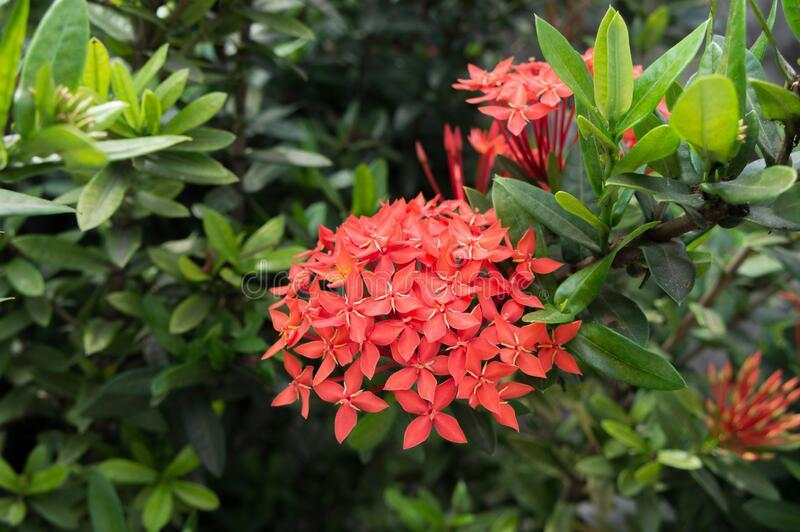ixora: (317, 363, 389, 445), (384, 332, 449, 403), (395, 382, 467, 446), (319, 274, 377, 343), (359, 265, 426, 315), (413, 291, 479, 340), (269, 351, 316, 419), (493, 319, 546, 379), (465, 348, 515, 411), (536, 320, 583, 377), (509, 228, 564, 276), (261, 305, 306, 359), (450, 220, 508, 259)
